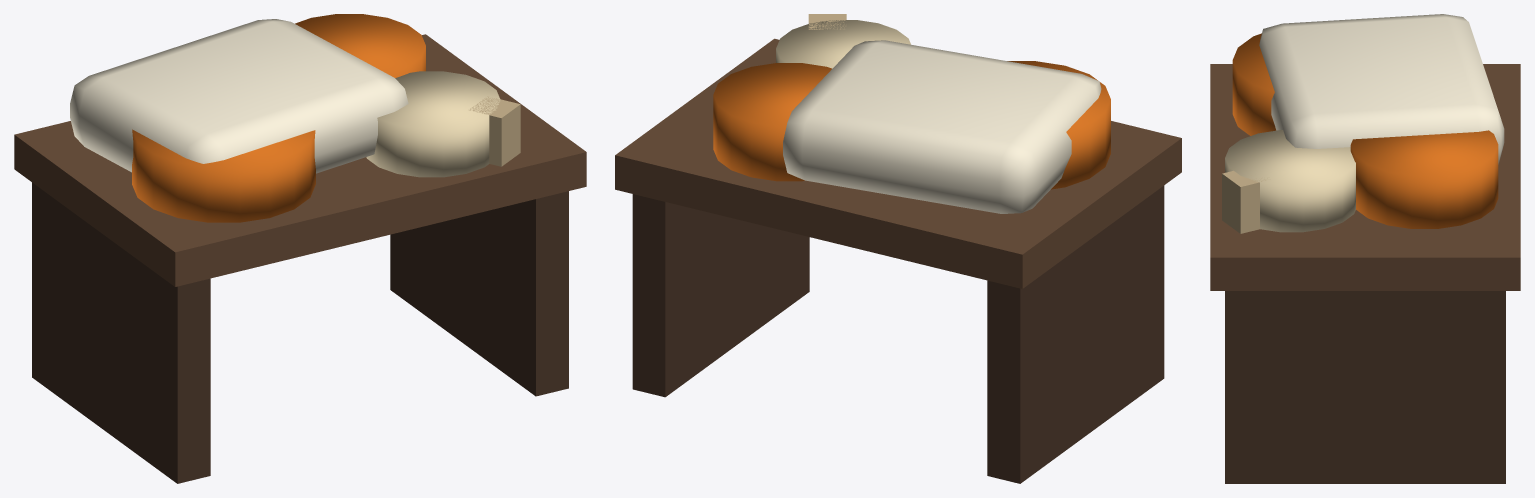
Rendered from cheeses.glb.
3 views of the same model, side by side, from view 1: azimuth 30°, elevation 25°; view 2: azimuth 150°, elevation 25°; view 3: azimuth 270°, elevation 25° (orthographic). The views are drawn at different scales.
Visible parts, largest first — view 1: cheeses; view 2: cheeses; view 3: cheeses.
Boxes of the visible parts, bbox=[...] form: cheeses: bbox=[14, 14, 586, 483]; cheeses: bbox=[615, 14, 1181, 483]; cheeses: bbox=[1210, 14, 1520, 483].
Bounding box in the file's own units: 0.62 × 0.45 × 0.42.
